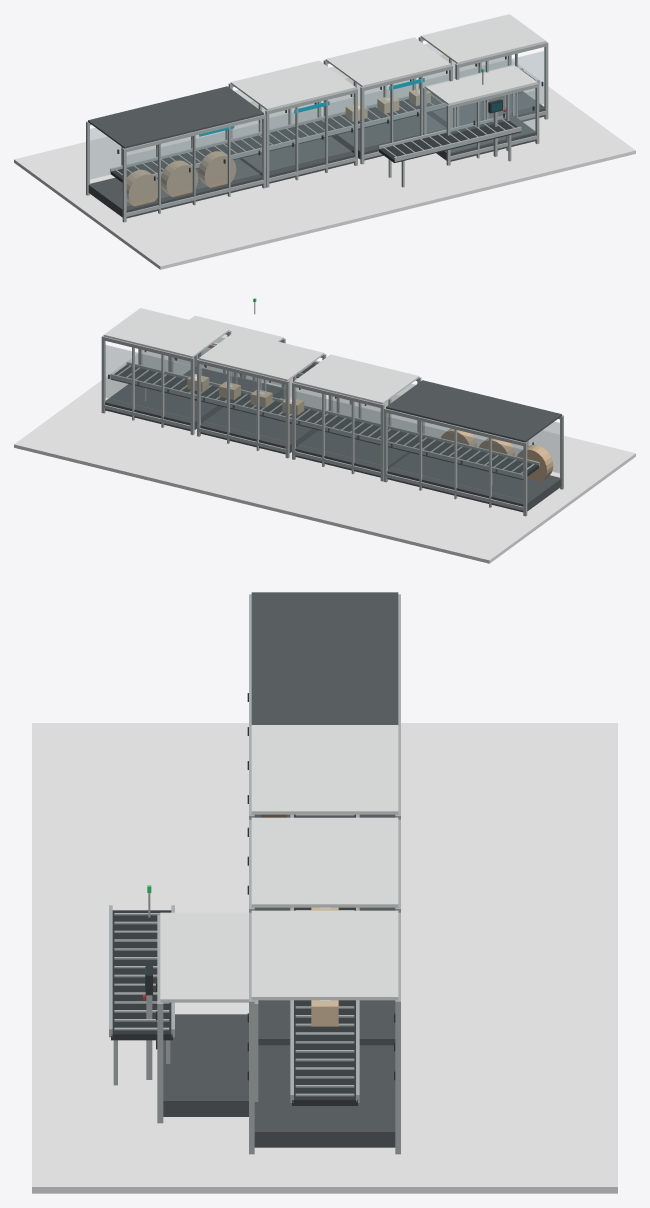
3 views of the same model, one above another, from view 1: azimuth 30°, elevation 25°; view 2: azimuth 150°, elevation 25°; view 3: azimuth 270°, elevation 25° (orthographic). The views are drawn at different scales.
Visible parts, largest first — view 1: Factory floor, Wave line material module roof, CartonWrap DUO guarded module 1 roof, CartonWrap DUO guarded module 2 roof, CartonWrap DUO guarded module 3 roof, CartonWrap DUO guarded module 1 transparent safety window.00 (×3), CartonWrap DUO guarded module 2 transparent safety window.00 (×3), CartonWrap main line deck, Wave line material module base, CartonWrap DUO guarded module 1 base, Compact control and sealing section roof, CartonWrap DUO guarded module 2 base (+33 smaller); view 2: Factory floor, Wave line material module roof, CartonWrap DUO guarded module 1 transparent safety window.00 (×3), CartonWrap DUO guarded module 2 transparent safety window.00 (×3), Wave line material module base, CartonWrap DUO guarded module 3 transparent safety window.00 (×3), CartonWrap main line deck, CartonWrap DUO guarded module 2 roof, CartonWrap DUO guarded module 3 roof, CartonWrap DUO guarded module 1 roof, CartonWrap DUO guarded module 2 base, CartonWrap DUO guarded module 3 base (+22 smaller); view 3: Factory floor, Wave line material module roof, CartonWrap DUO guarded module 2 roof, CartonWrap DUO guarded module 3 roof, CartonWrap DUO guarded module 1 roof, CartonWrap DUO guarded module 3 base, Compact control and sealing section base, Compact control and sealing section roof, CartonWrap main line deck, Item induction deck, CartonWrap DUO guarded module 2 base, CartonWrap DUO guarded module 3 corner column.002 (+2 smaller).
Boxes of the visible parts, x1,y1,x2,y2 form: Factory floor: (14,54,635,269); Wave line material module roof: (88,86,263,148); CartonWrap DUO guarded module 1 roof: (230,60,355,110); CartonWrap DUO guarded module 2 roof: (325,37,450,87); CartonWrap DUO guarded module 3 roof: (420,14,546,63); CartonWrap DUO guarded module 1 transparent safety window.00 (×3): (233,90,354,163); CartonWrap DUO guarded module 2 transparent safety window.00 (×3): (328,67,449,140); CartonWrap main line deck: (110,71,535,182); Wave line material module base: (88,159,262,218); CartonWrap DUO guarded module 1 base: (240,136,354,183); Compact control and sealing section roof: (424,64,537,105); CartonWrap DUO guarded module 2 base: (331,114,446,160); Factory floor: (14,348,635,563); Wave line material module roof: (386,380,561,442); CartonWrap DUO guarded module 1 transparent safety window.00 (×3): (295,391,380,464); CartonWrap DUO guarded module 2 transparent safety window.00 (×3): (200,368,285,441); Wave line material module base: (387,453,561,512); CartonWrap DUO guarded module 3 transparent safety window.00 (×3): (105,345,190,417); CartonWrap main line deck: (111,365,539,479); CartonWrap DUO guarded module 2 roof: (199,331,324,381); CartonWrap DUO guarded module 3 roof: (103,308,229,357); CartonWrap DUO guarded module 1 roof: (294,354,419,404); CartonWrap DUO guarded module 2 base: (200,407,318,454); CartonWrap DUO guarded module 3 base: (105,384,223,431); Factory floor: (32,723,617,1193); Wave line material module roof: (251,592,398,724); CartonWrap DUO guarded module 2 roof: (251,817,398,907); CartonWrap DUO guarded module 3 roof: (251,910,398,1000); CartonWrap DUO guarded module 1 roof: (251,725,398,814); CartonWrap DUO guarded module 3 base: (254,1045,395,1147); Compact control and sealing section base: (163,1014,248,1116); Compact control and sealing section roof: (160,912,255,1002); CartonWrap main line deck: (292,814,357,1105); Item induction deck: (111,910,172,1040); CartonWrap DUO guarded module 2 base: (258,1000,395,1045); CartonWrap DUO guarded module 3 corner column.002: (249,999,254,1154).
Bounding box in the file's own units: 15 × 2.82 × 8.
